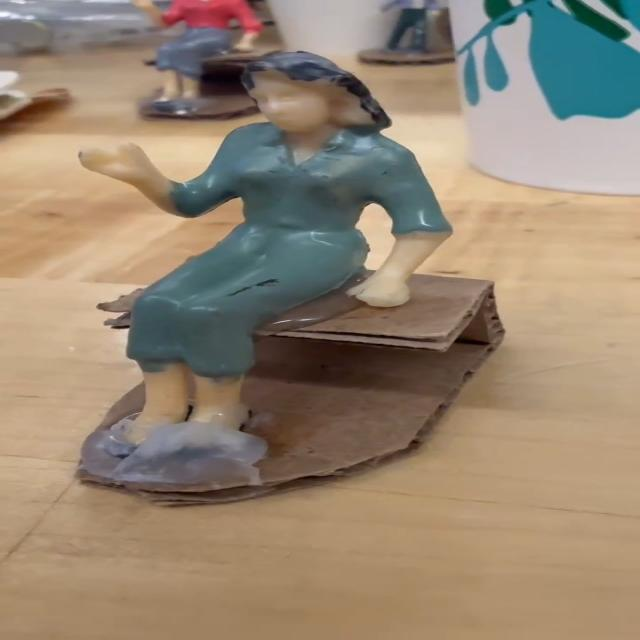Authorized: (37, 63, 512, 504)
